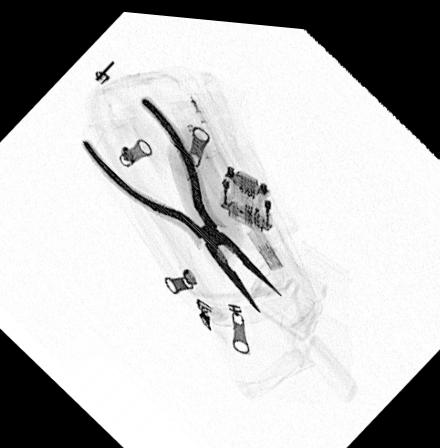Pliers: (78, 93, 282, 310)
